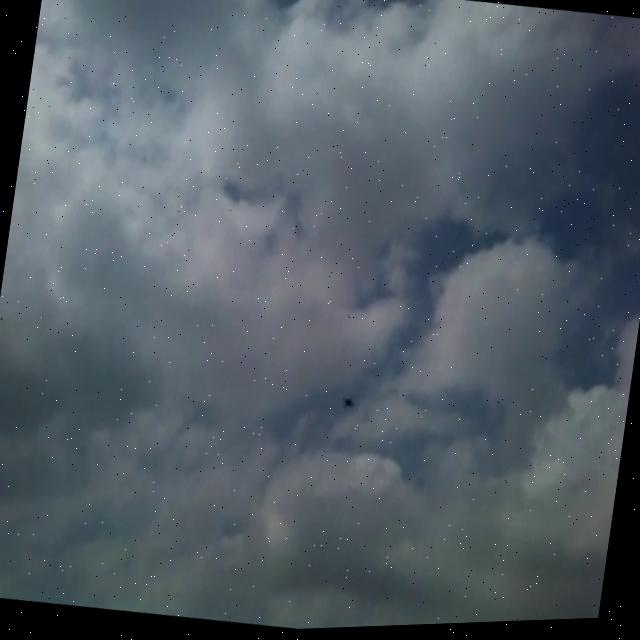drone: (340, 390, 357, 414)
